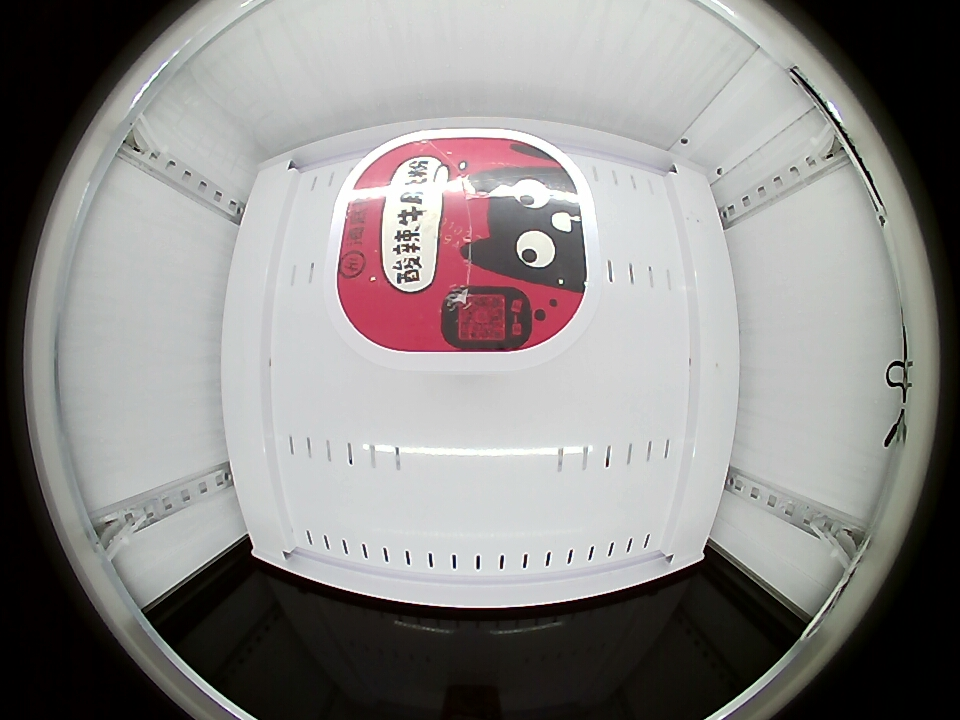niudufen: (328, 130, 594, 364)
